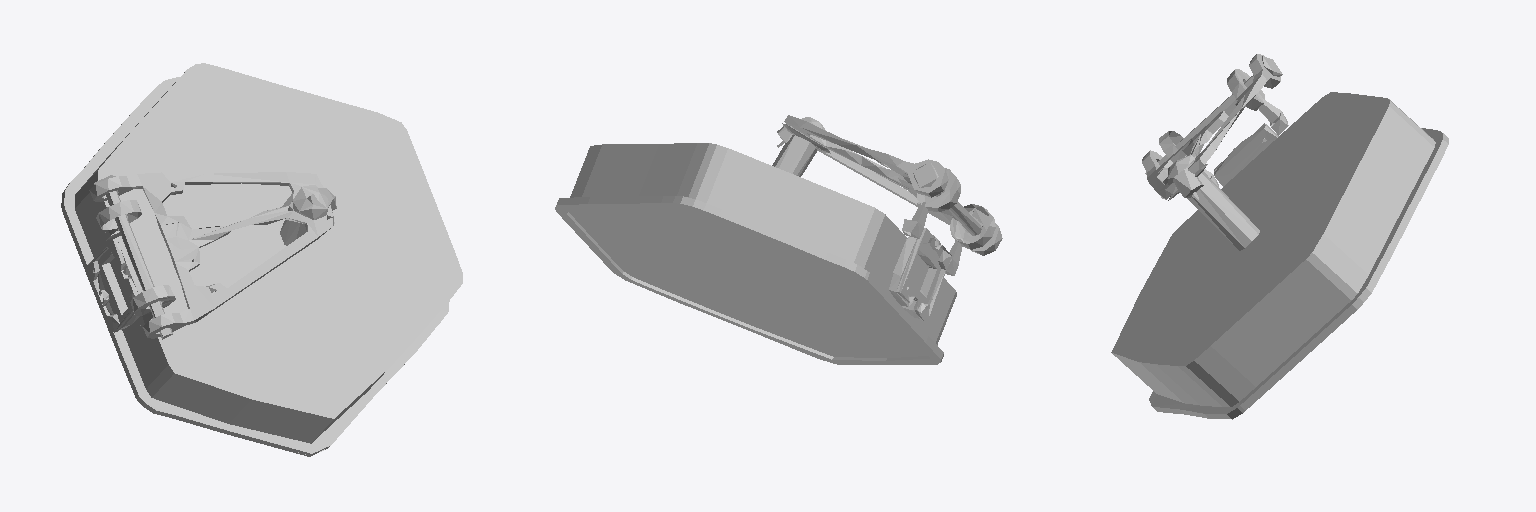
File: HGA_EL.obj
3 renders of one model, left to right at view 1: azimuth 30°, elevation 25°; view 2: azimuth 150°, elevation 25°; view 3: azimuth 270°, elevation 25°, orthographic.
Parts seen in each view (by area): view 1: HGA_EL.obj; view 2: HGA_EL.obj; view 3: HGA_EL.obj.
Boxes of the visible parts, <box> form: HGA_EL.obj: <box>61,63,462,456</box>; HGA_EL.obj: <box>555,115,1002,364</box>; HGA_EL.obj: <box>1111,54,1448,419</box>.
Bounding box in the file's own units: 0.2946 × 0.2485 × 0.2485.